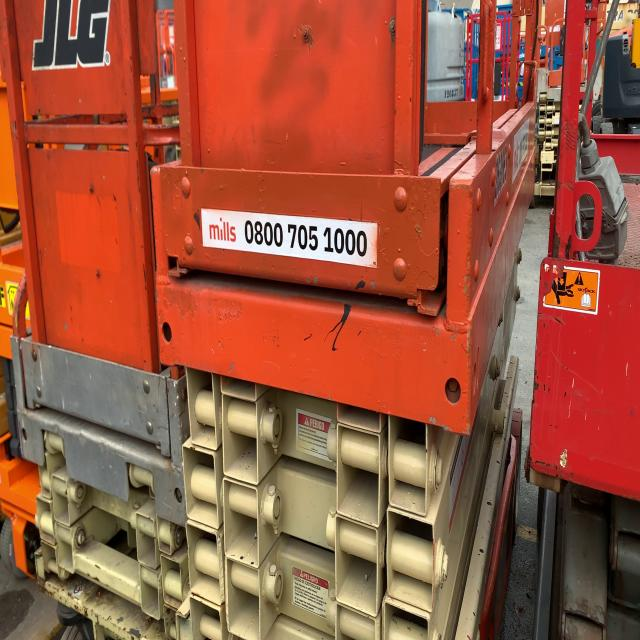Adesivo Longo: (199, 205, 378, 269)
